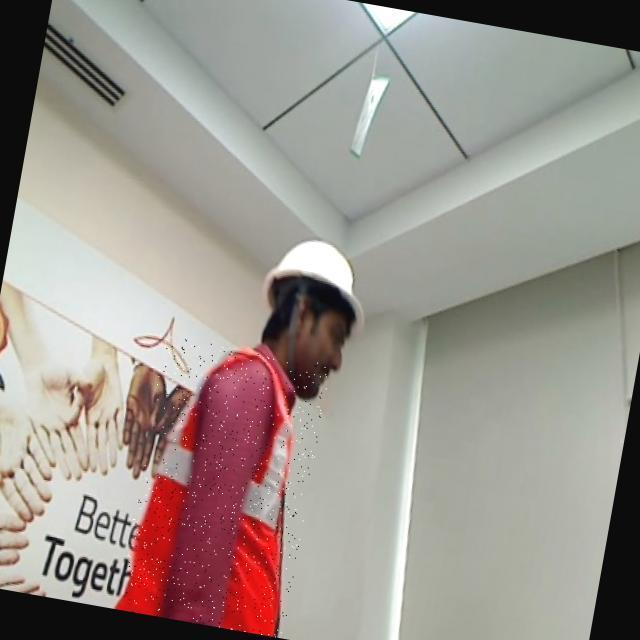helmet: (261, 225, 373, 344)
vest: (117, 336, 331, 639)
